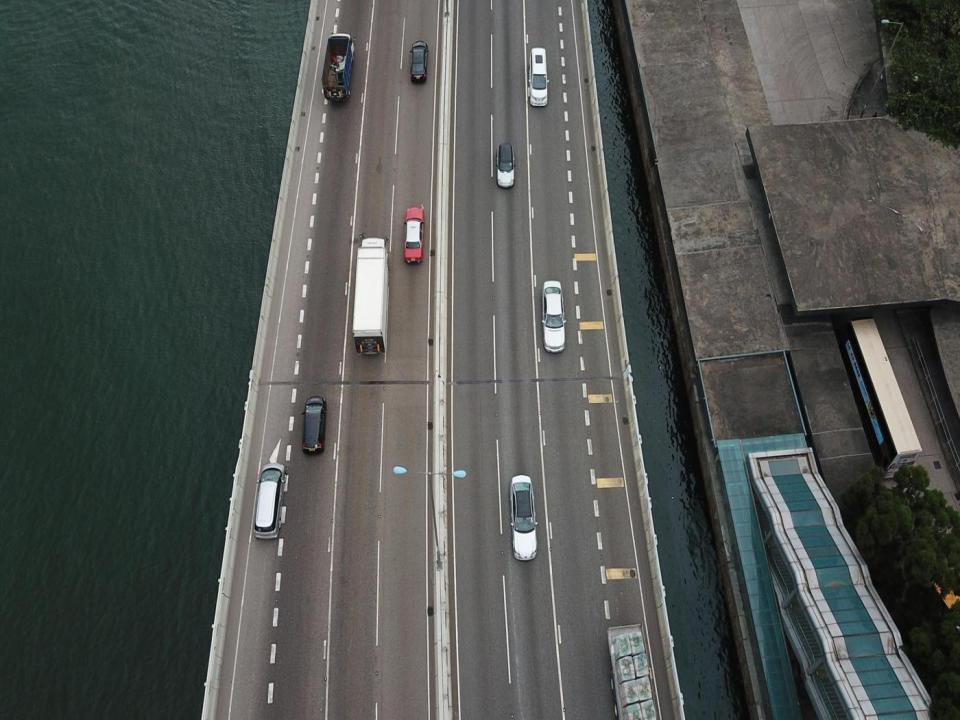bus: (831, 311, 929, 474)
car: (251, 462, 289, 541), (507, 474, 541, 562), (540, 280, 567, 354), (299, 393, 330, 455), (401, 205, 427, 265), (528, 47, 550, 107), (494, 141, 517, 189), (407, 38, 430, 84)
truck: (347, 238, 396, 360), (606, 616, 655, 719), (319, 29, 356, 105)
